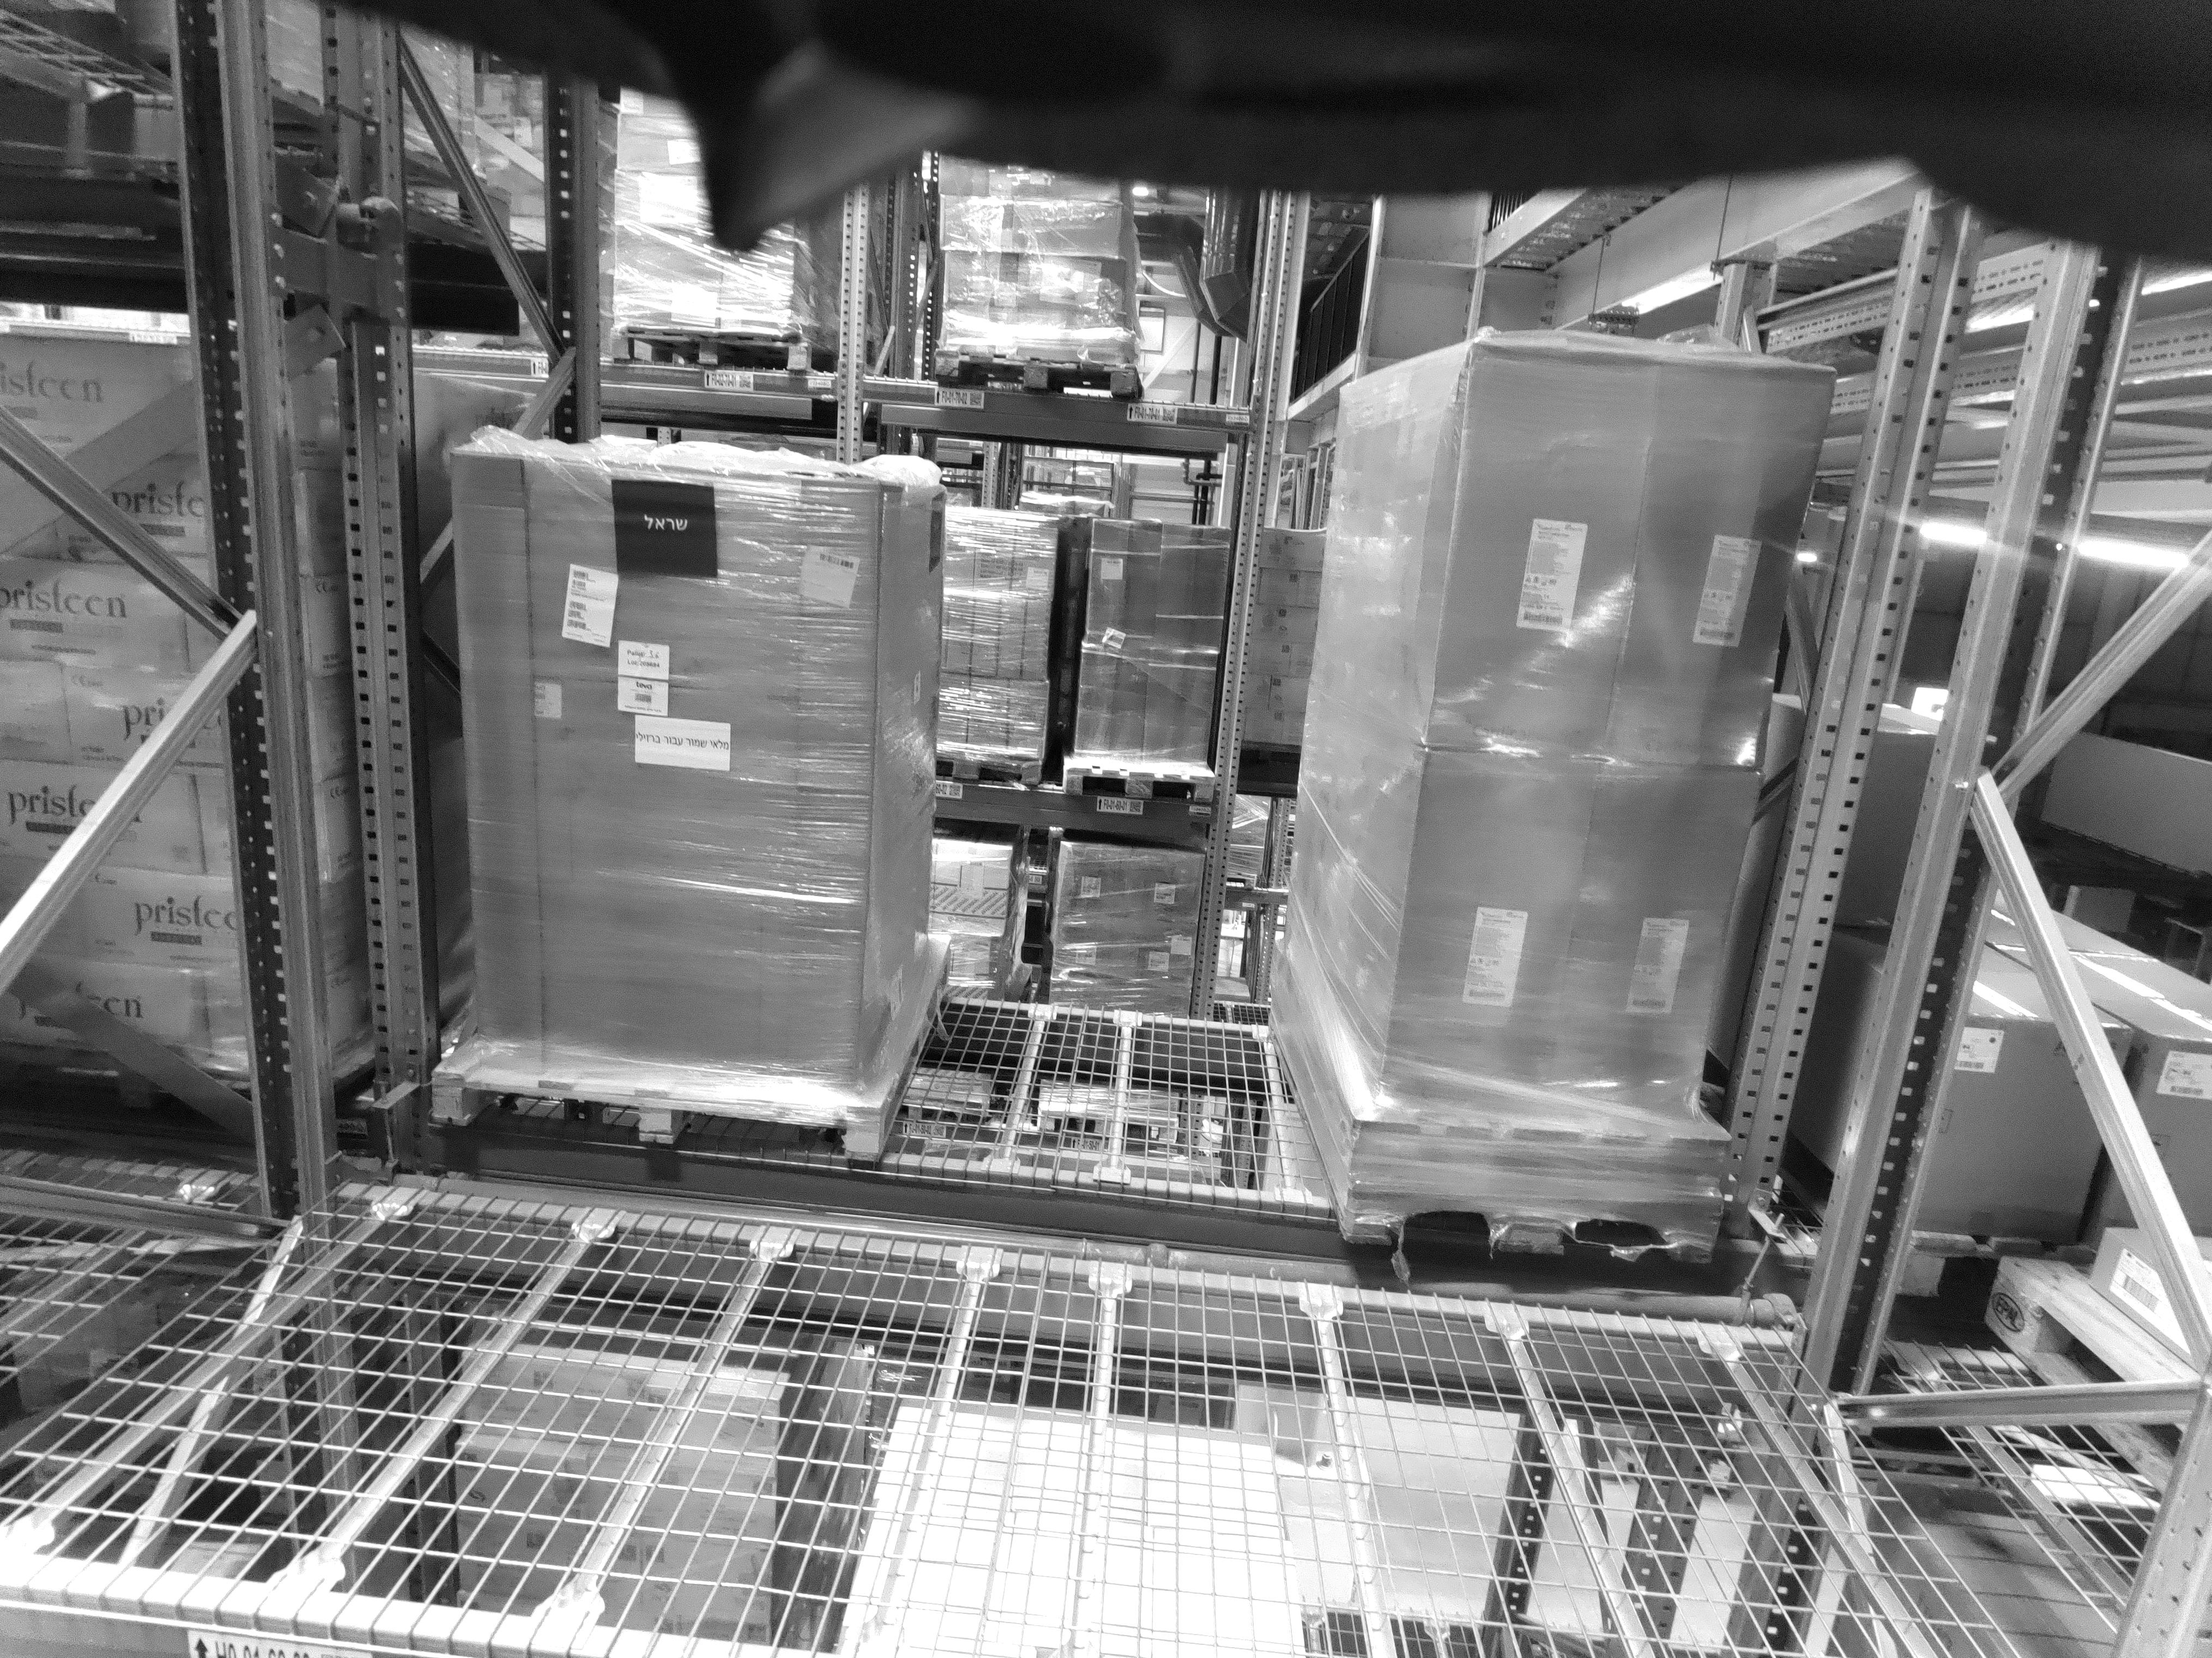empty-shelf: (343, 505, 878, 1606), (968, 516, 1336, 1620), (1453, 524, 1818, 1587)
